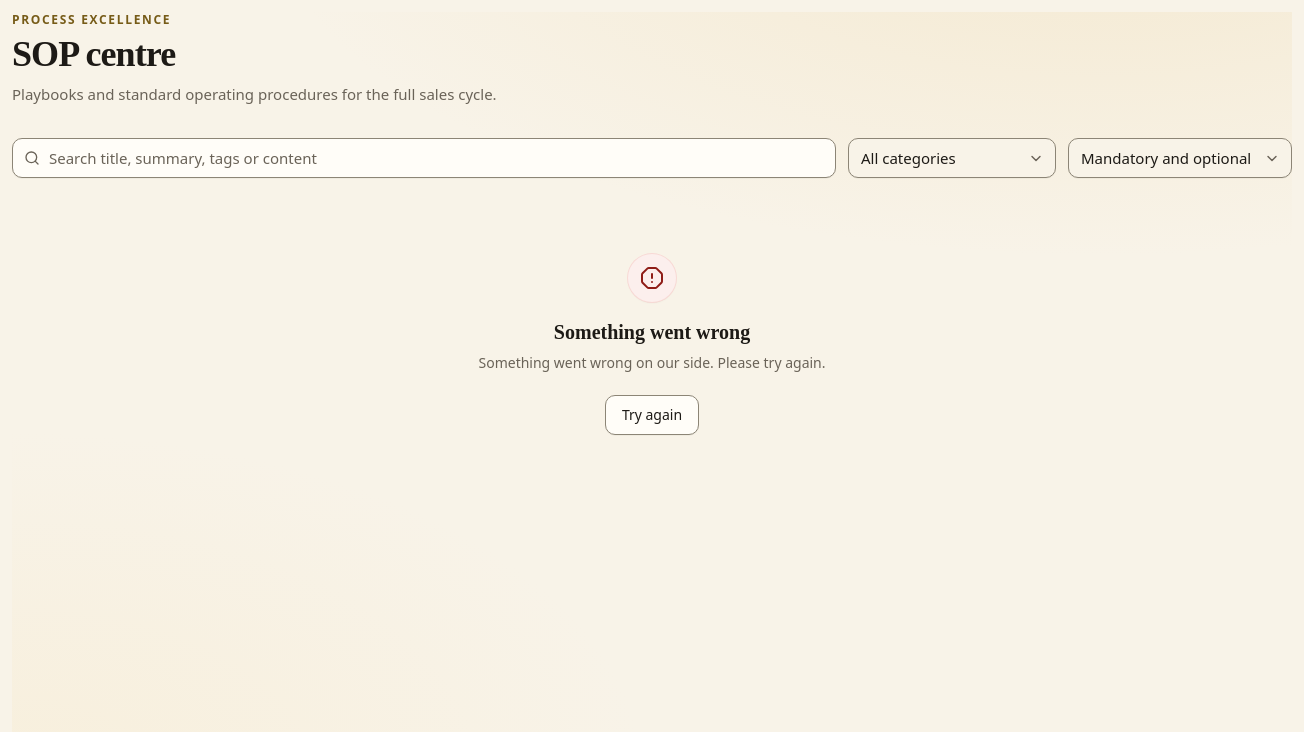
Scenario: SOP library page › shows an error state with retry
The width and height of the screenshot is (1304, 732).
Click the button "Try again": (652, 415) [605, 395, 699, 435]
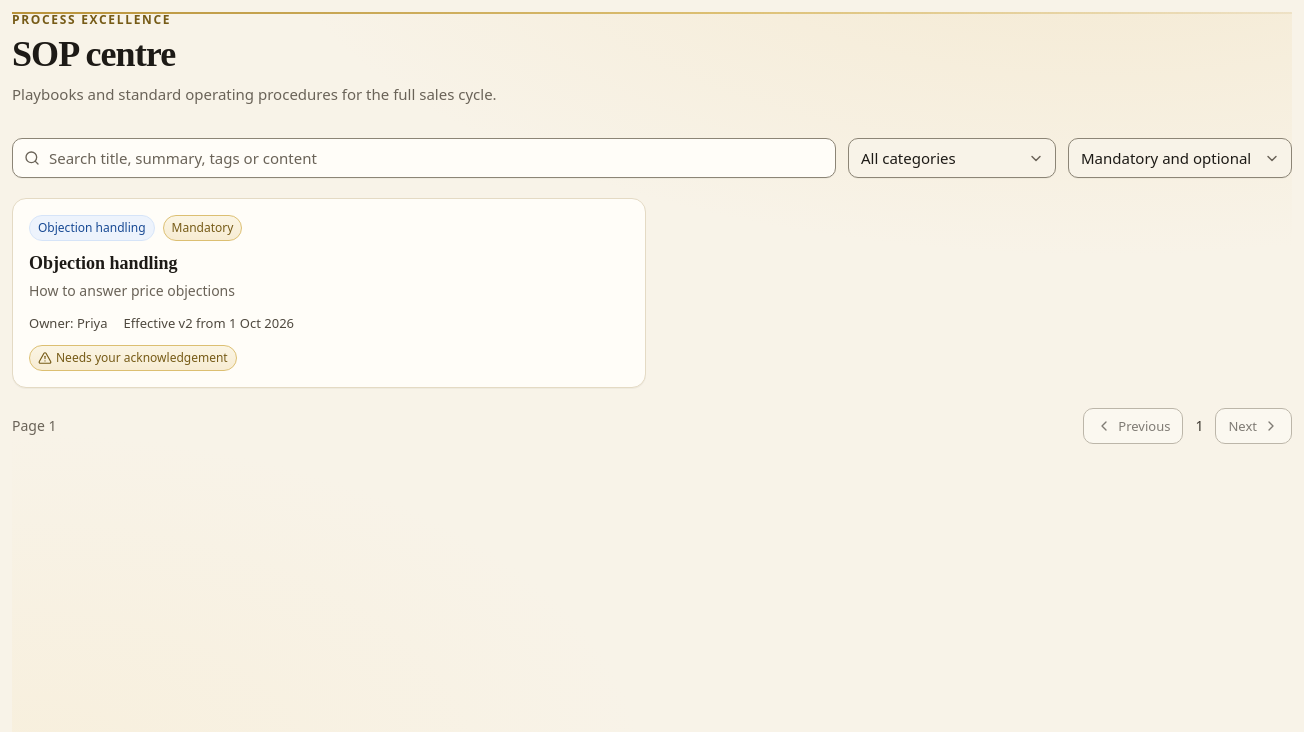
Expected: the heading "Objection handling" is shown, [29, 253, 178, 273]
